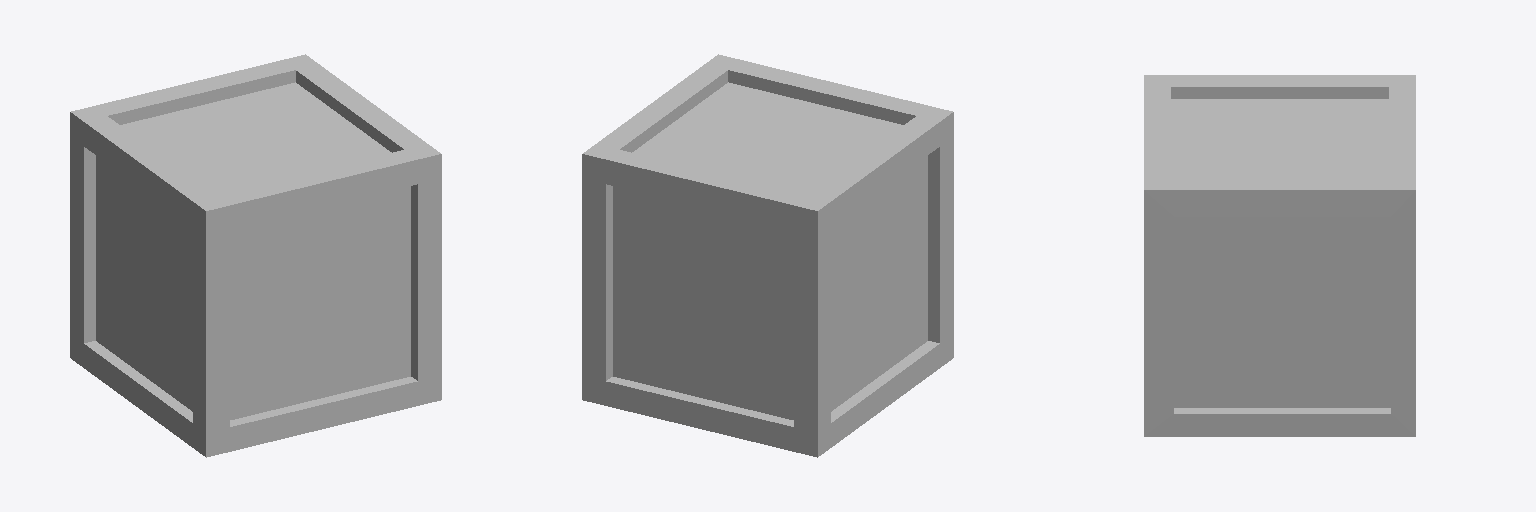
Rendered from crate.obj.
The picture shows the model from 3 angles: view 1: azimuth 30°, elevation 25°; view 2: azimuth 150°, elevation 25°; view 3: azimuth 270°, elevation 25°; orthographic projection.
Size of the model in its own units: 1 by 1 by 1.